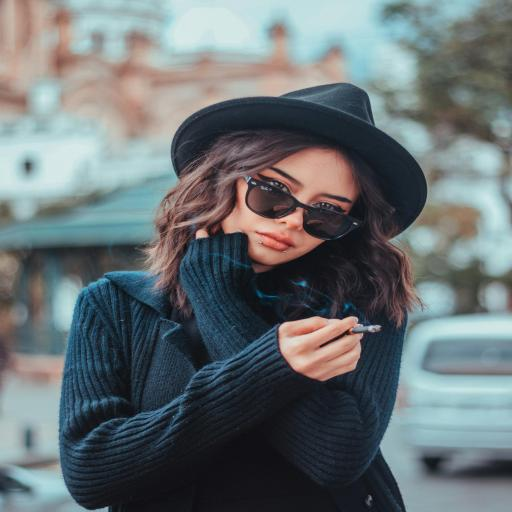terdeteksi pegang rokok: (270, 268, 398, 426)
